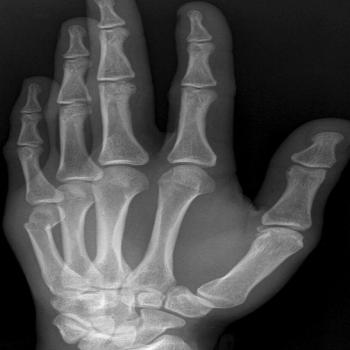Fracture: (14, 215, 57, 237)
